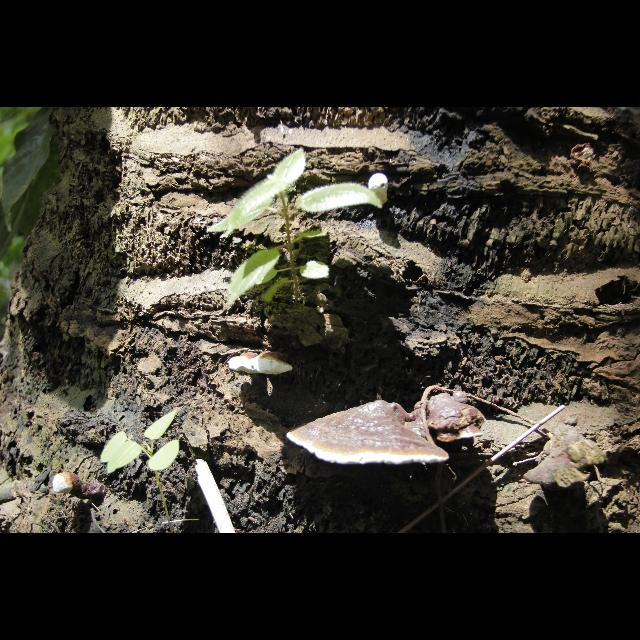ganoderma: (287, 400, 451, 467), (422, 391, 487, 443), (230, 351, 295, 377)
primordium: (369, 173, 390, 205), (53, 473, 79, 497)
